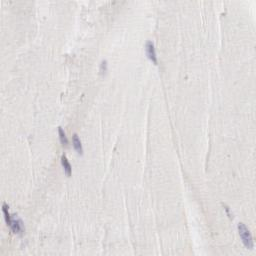nucleus: (10, 213, 25, 237), (239, 221, 252, 248), (61, 154, 71, 177), (72, 134, 83, 154), (58, 125, 68, 146), (146, 42, 156, 63), (98, 60, 109, 76), (3, 205, 9, 223)
